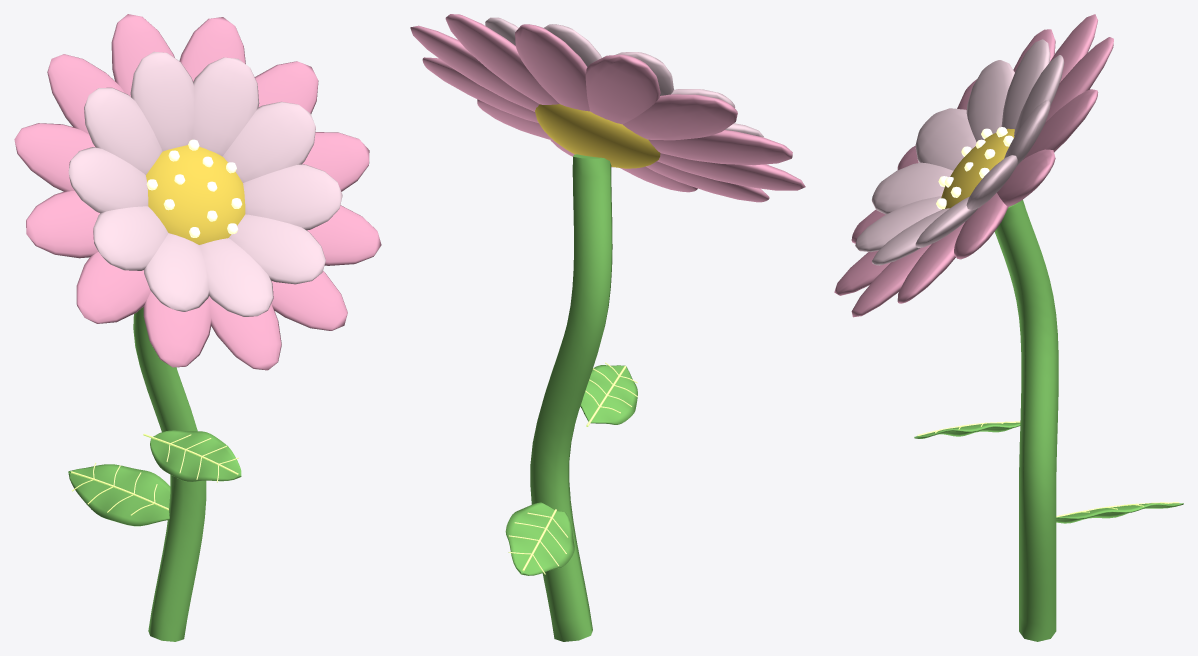
The model's file is E24_Giant_Flower.glb.
3 renders of one model, left to right at view 1: azimuth 30°, elevation 25°; view 2: azimuth 150°, elevation 25°; view 3: azimuth 270°, elevation 25°, orthographic. The views are drawn at different scales.
Parts seen in each view (by area): view 1: E24_Giant_Flower_Mesh, E24_Leaf1_Mesh, E24_Leaf2_Mesh; view 2: E24_Giant_Flower_Mesh, E24_Leaf1_Mesh, E24_Leaf2_Mesh; view 3: E24_Giant_Flower_Mesh, E24_Leaf1_Mesh, E24_Leaf2_Mesh.
Part boxes in pixels (left/top/right/bottom): E24_Giant_Flower_Mesh: left=14, top=14, right=381, bottom=641; E24_Leaf1_Mesh: left=68, top=462, right=170, bottom=526; E24_Leaf2_Mesh: left=143, top=430, right=241, bottom=482; E24_Giant_Flower_Mesh: left=410, top=14, right=805, bottom=641; E24_Leaf1_Mesh: left=505, top=502, right=574, bottom=575; E24_Leaf2_Mesh: left=580, top=362, right=637, bottom=426; E24_Giant_Flower_Mesh: left=834, top=14, right=1113, bottom=641; E24_Leaf1_Mesh: left=1056, top=502, right=1183, bottom=523; E24_Leaf2_Mesh: left=914, top=421, right=1020, bottom=438.
Size of the model in its own units: 4.66 by 7.73 by 4.11.
